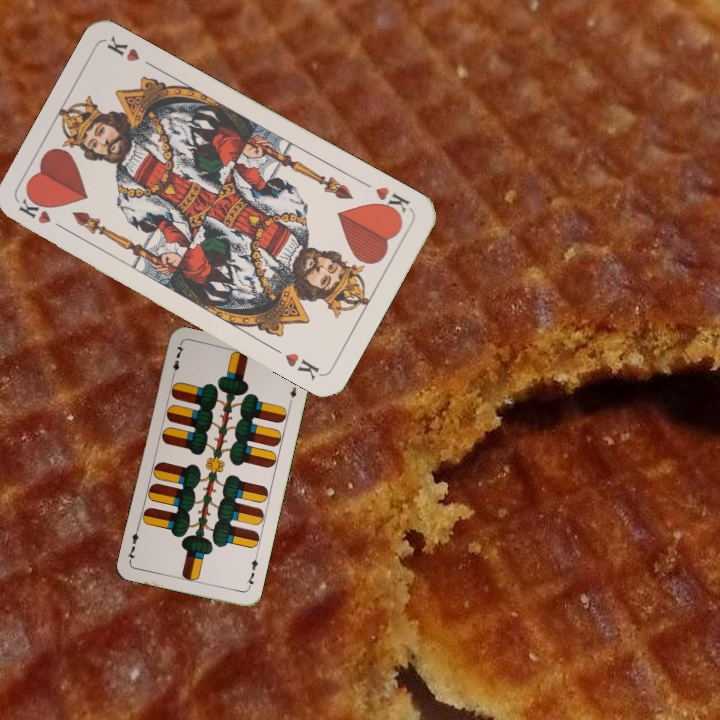E7: (243, 551, 261, 591), (168, 341, 186, 381)
HK: (14, 194, 70, 234), (370, 182, 413, 221)
